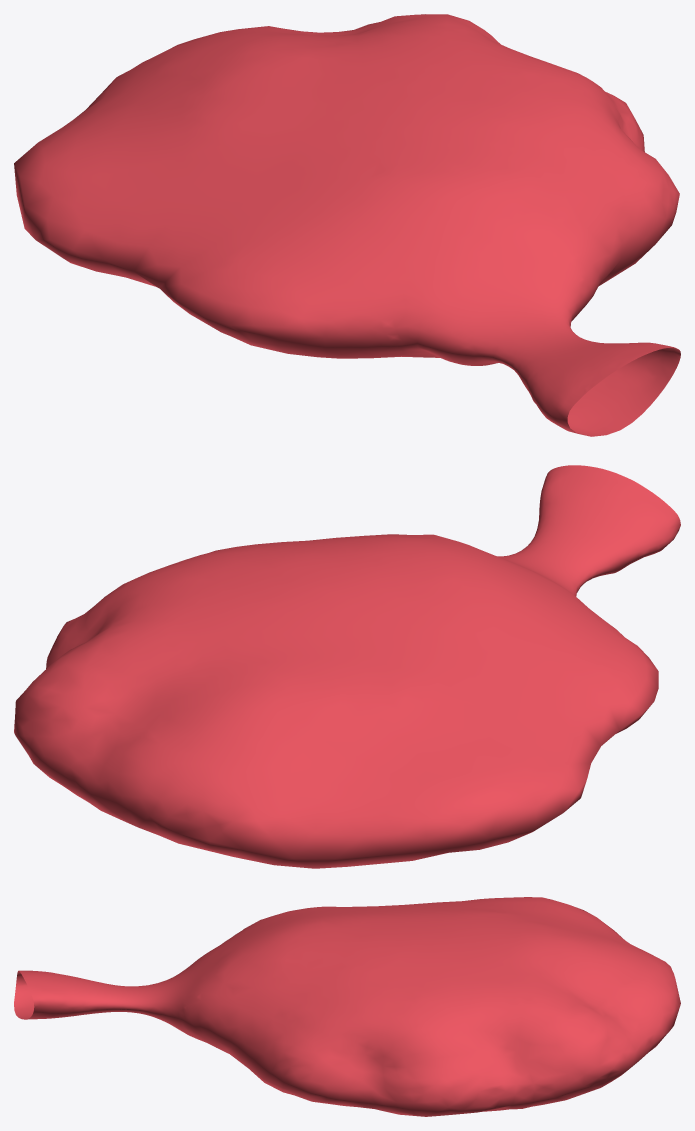
The model's file is whoopie (1).fbx.
The picture shows the model from 3 angles, top to bottom: view 1: azimuth 30°, elevation 25°; view 2: azimuth 150°, elevation 25°; view 3: azimuth 270°, elevation 25°; orthographic projection. The views are drawn at different scales.
Visible parts, largest first — view 1: Cylinder; view 2: Cylinder; view 3: Cylinder.
Boxes of the visible parts, x1=… form: Cylinder: x1=14, y1=14, x2=680, y2=436; Cylinder: x1=14, y1=465, x2=680, y2=868; Cylinder: x1=14, y1=897, x2=680, y2=1116.
Bounding box in the file's own units: 57.62 × 14.74 × 81.77.
